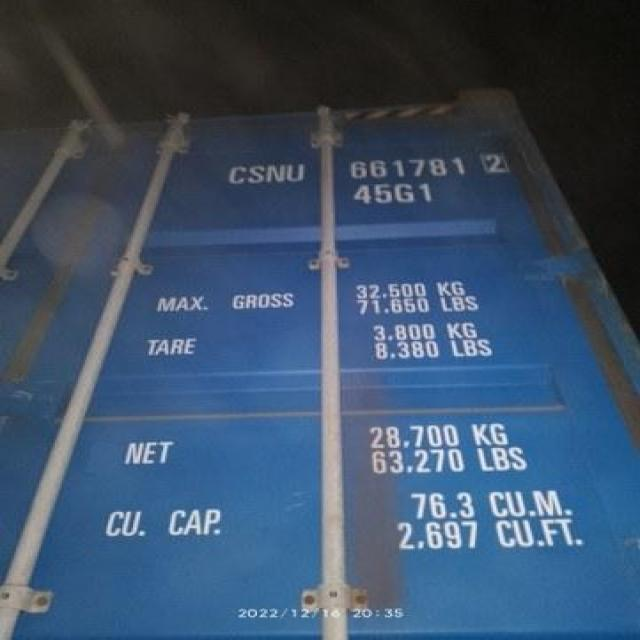container_number_h: (169, 135, 536, 227)
